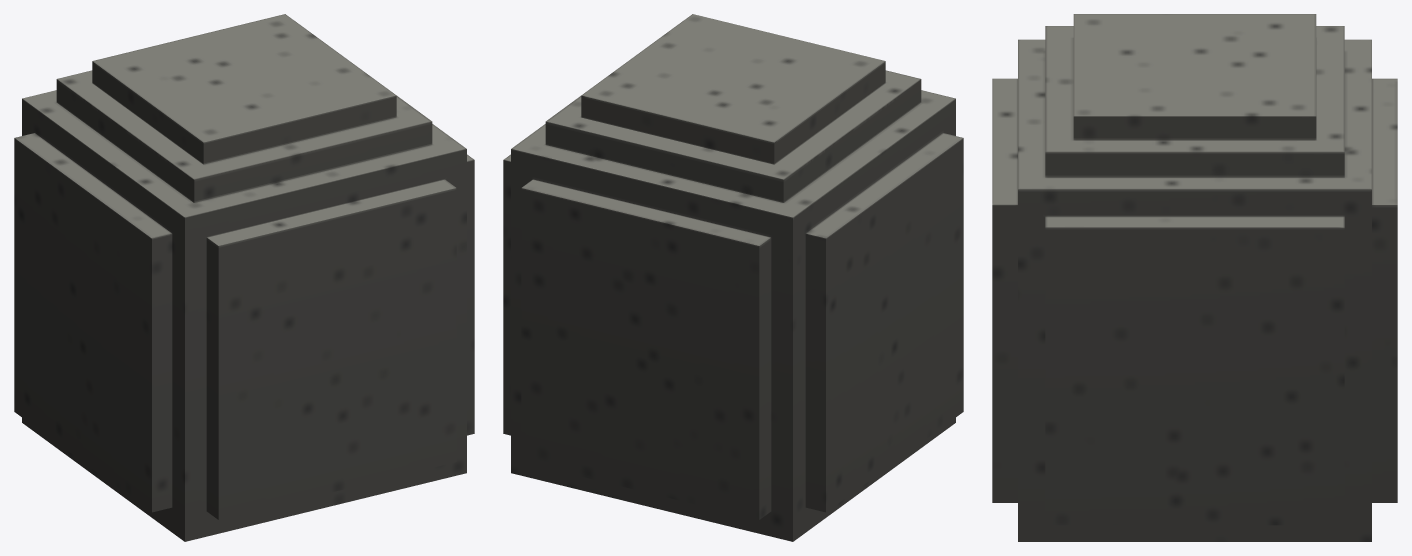
Rendered from Batu 1.fbx.
3 views of the same model, side by side, from view 1: azimuth 30°, elevation 25°; view 2: azimuth 150°, elevation 25°; view 3: azimuth 270°, elevation 25° (orthographic). The views are drawn at different scales.
Visible parts, largest first — view 1: Batu 1; view 2: Batu 1; view 3: Batu 1.
Part boxes in pixels (box(x1,y1,x2,y2)): Batu 1: box(14, 14, 474, 541); Batu 1: box(503, 14, 963, 541); Batu 1: box(992, 14, 1397, 541).
Size of the model in its own units: 102 by 111 by 102.
Materials: 1 (1 with a texture image).
